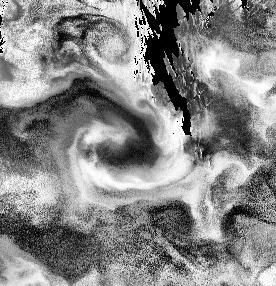AE: (70, 114, 188, 196), (80, 15, 144, 74)
